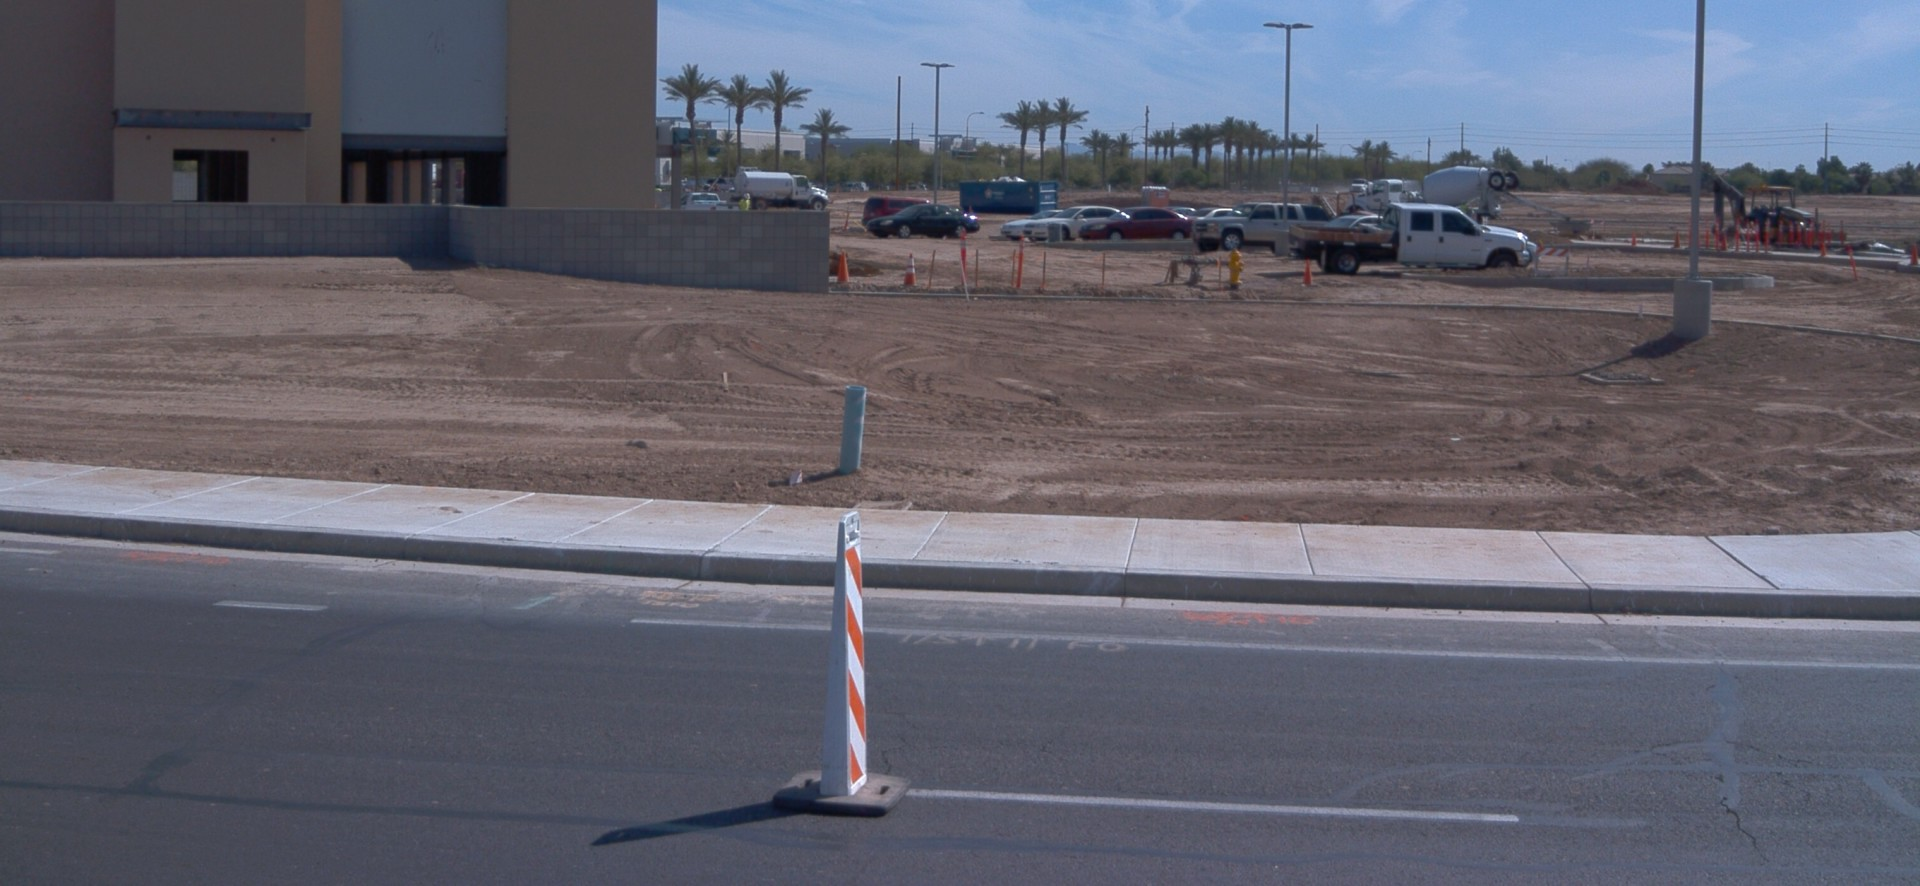TYPE_PEDESTRIAN: (737, 191, 751, 213), (1457, 199, 1472, 219)
TYPE_VEHICLE: (1287, 204, 1534, 277), (1360, 159, 1576, 227), (1710, 165, 1849, 247), (1192, 203, 1331, 253), (861, 202, 978, 242), (1075, 206, 1194, 245), (733, 168, 829, 215), (1019, 204, 1122, 244), (1302, 216, 1384, 246), (997, 208, 1062, 243), (1311, 186, 1375, 221), (861, 196, 930, 228), (674, 193, 742, 214), (1184, 205, 1243, 219), (1522, 239, 1539, 267), (1349, 181, 1372, 196)
